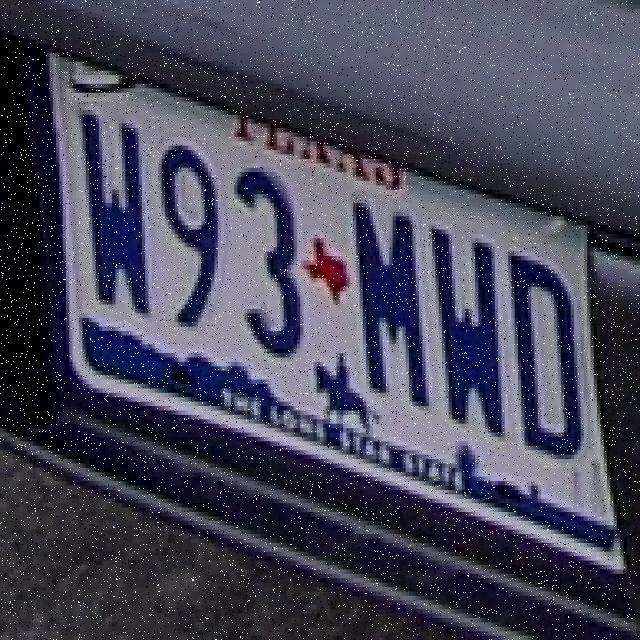licenseplate: (22, 24, 636, 616)
